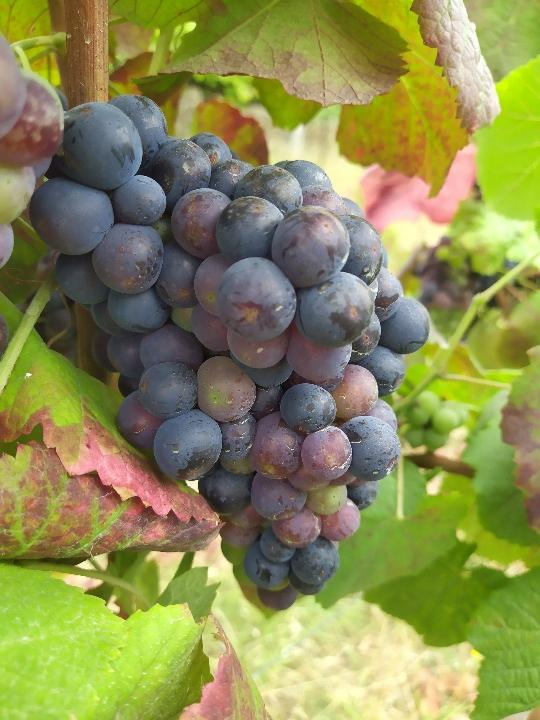grape: (24, 95, 437, 621)
